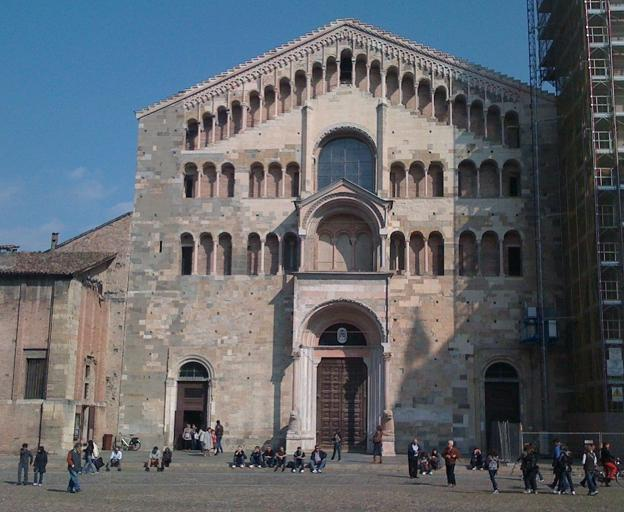non-vehicle: (592, 457, 623, 489), (112, 431, 141, 451)
